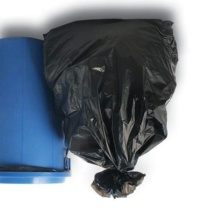plastic_bag: (33, 14, 182, 203)
